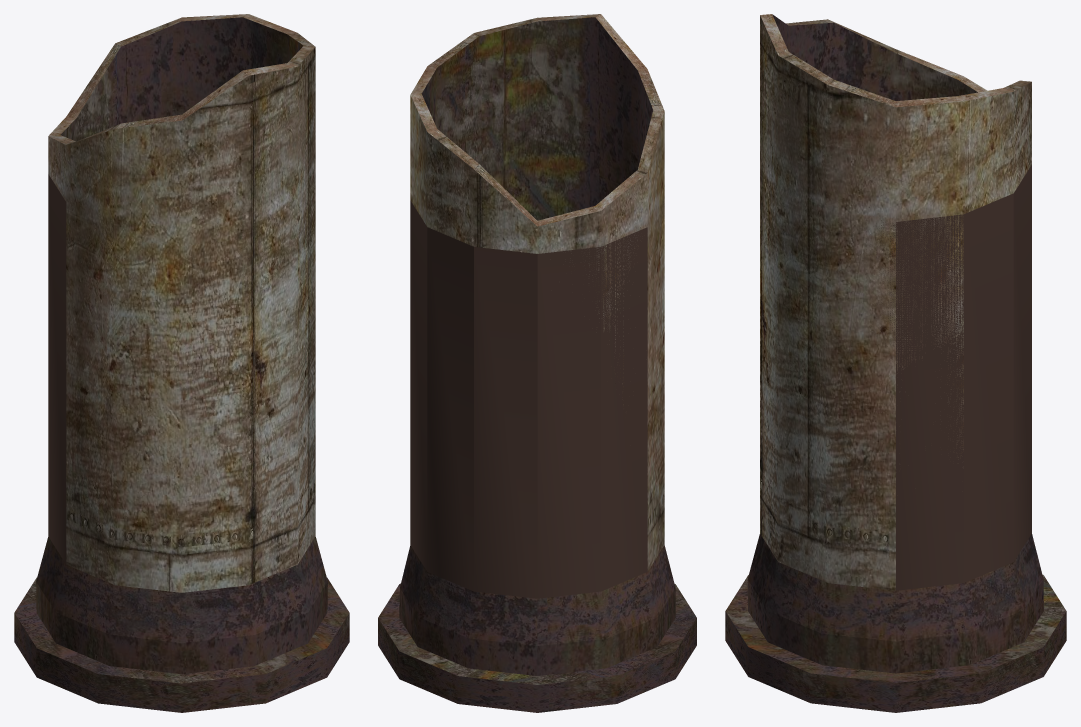
Rendered from railpipe_sd02.glb.
3 renders of one model, left to right at view 1: azimuth 30°, elevation 25°; view 2: azimuth 150°, elevation 25°; view 3: azimuth 270°, elevation 25°, orthographic. The views are drawn at different scales.
Size of the model in its own units: 41.38 by 84.02 by 41.38.
Materials: 3 (3 with a texture image).
